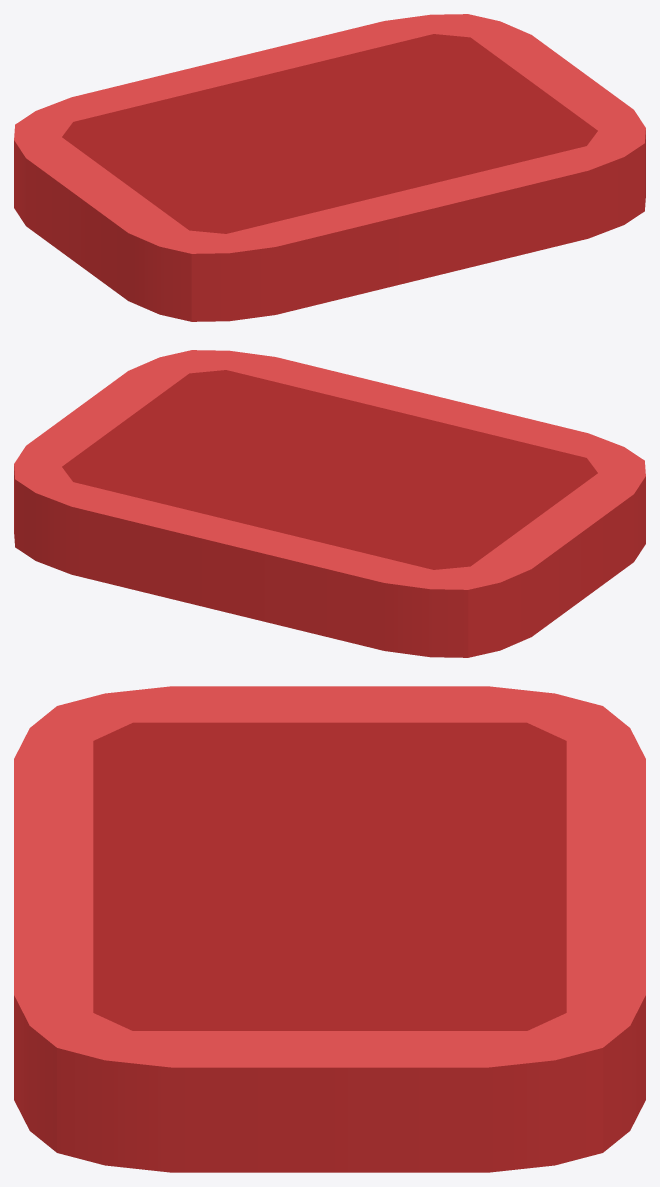
File: button.glb
3 renders of one model, top to bottom at view 1: azimuth 30°, elevation 25°; view 2: azimuth 150°, elevation 25°; view 3: azimuth 270°, elevation 25°, orthographic. The views are drawn at different scales.
Parts seen in each view (by area): view 1: ButtonsRF.001; view 2: ButtonsRF.001; view 3: ButtonsRF.001.
Part boxes in pixels (bbox=[...]): ButtonsRF.001: bbox=[14, 14, 645, 321]; ButtonsRF.001: bbox=[14, 350, 645, 657]; ButtonsRF.001: bbox=[14, 686, 645, 1172].
Bounding box in the file's own units: 0.3299 × 0.0424 × 0.231.
1 material, 1 textured.
